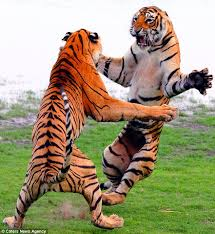tiger: (5, 29, 125, 231), (98, 6, 212, 206)
